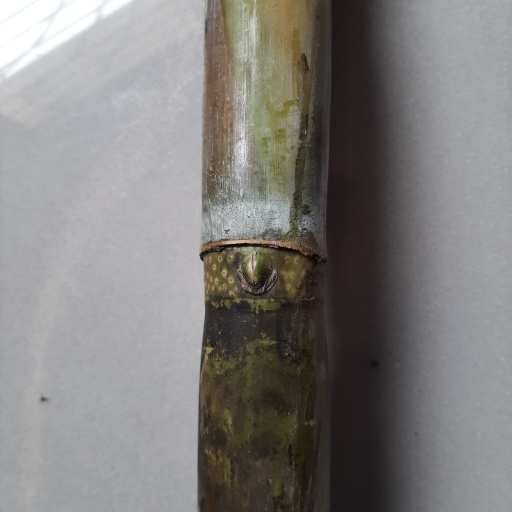Bud: (239, 249, 272, 292)
